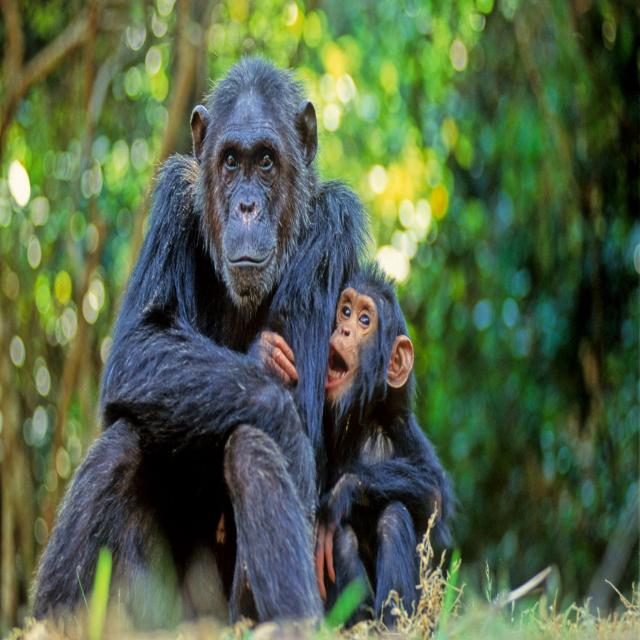Chimpanzee: (43, 61, 340, 628)
